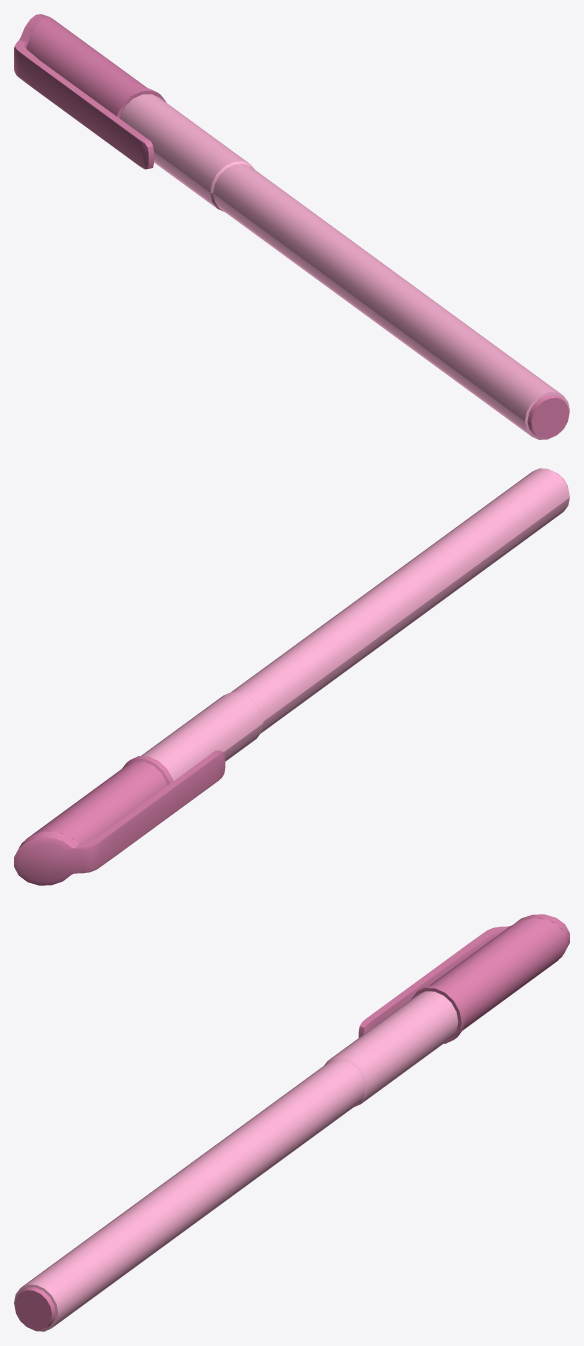
The picture shows the model from 3 angles, top to bottom: view 1: azimuth 30°, elevation 25°; view 2: azimuth 150°, elevation 25°; view 3: azimuth 330°, elevation 25°; orthographic projection.
Visible parts, largest first — view 1: gel_pen, hood_02; view 2: gel_pen, hood_02; view 3: gel_pen, hood_02.
Boxes of the visible parts, x1,y1,x2,y2 form: gel_pen: [119, 94, 569, 439]; hood_02: [14, 14, 166, 169]; gel_pen: [141, 468, 569, 780]; hood_02: [14, 750, 225, 885]; gel_pen: [14, 991, 458, 1331]; hood_02: [358, 914, 569, 1043].
Size of the model in its own units: 113 by 94.84 by 1609.
